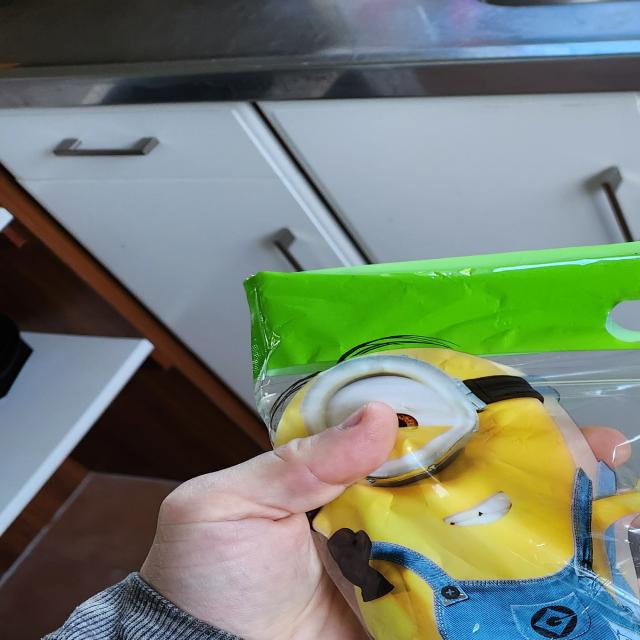grapes: (239, 237, 640, 640)
